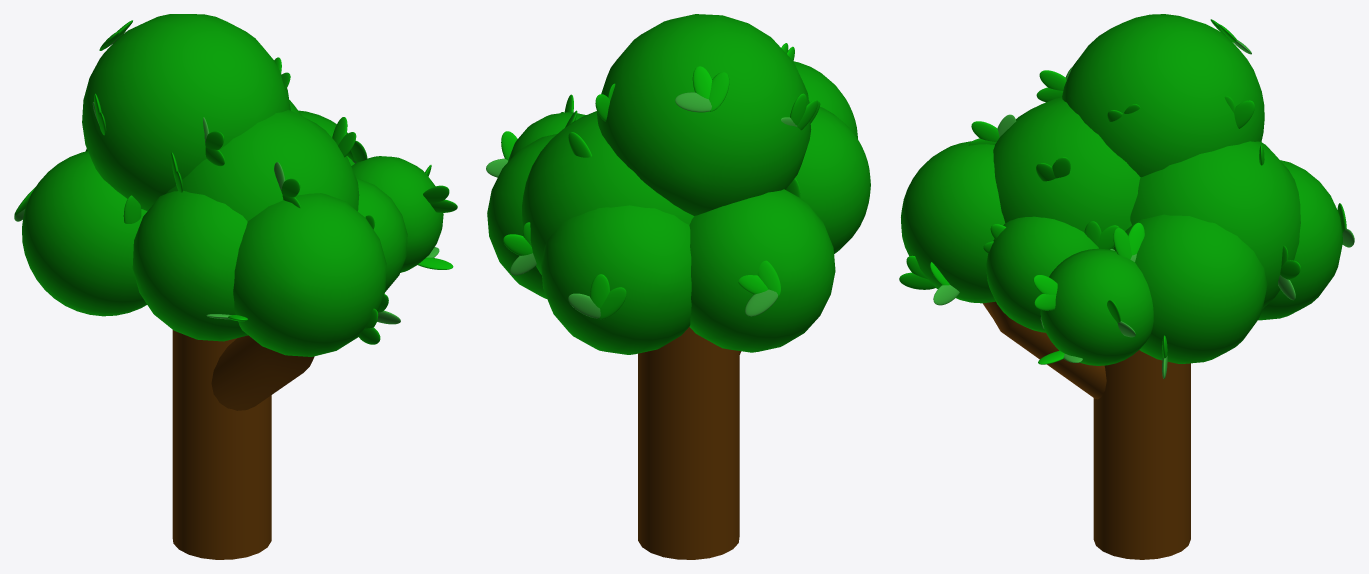
File: tree.fbx
3 views of the same model, side by side, from view 1: azimuth 30°, elevation 25°; view 2: azimuth 150°, elevation 25°; view 3: azimuth 270°, elevation 25° (orthographic). The views are drawn at different scales.
Parts seen in each view (by area): view 1: group19, polySurface43, polySurface116, polySurface84, polySurface46, polySurface42, group21, polySurface115, polySurface44; view 2: group19, polySurface116, polySurface84, polySurface87, polySurface83, polySurface46, polySurface86, group21, polySurface43, polySurface108, polySurface112, polySurface114 (+2 smaller); view 3: group19, polySurface116, polySurface86, polySurface42, polySurface83, group21, polySurface43, polySurface44, polySurface87, polySurface115.
Part boxes in pixels (x1,y1,x2,y2): group19: (82,14,290,210); polySurface43: (233,193,386,356); polySurface116: (172,330,271,559); polySurface84: (22,151,147,316); polySurface46: (132,191,247,341); polySurface42: (167,109,359,221); group21: (347,141,457,272); polySurface115: (211,335,314,410); polySurface44: (356,178,407,291); group19: (595,14,818,215); polySurface116: (638,327,739,559); polySurface84: (689,189,835,352); polySurface87: (541,205,691,354); polySurface83: (522,111,694,274); polySurface46: (795,107,870,253); polySurface86: (487,134,556,298); group21: (486,94,586,177); polySurface43: (793,61,857,138); polySurface108: (745,289,777,316); polySurface112: (598,287,626,319); polySurface114: (568,293,600,318); group19: (1036,14,1264,177); polySurface116: (1093,350,1190,559); polySurface86: (1113,214,1267,363); polySurface42: (993,97,1140,248); polySurface83: (1130,141,1300,308); group21: (1033,222,1153,365); polySurface43: (901,141,1005,303); polySurface44: (986,216,1098,332); polySurface87: (1258,160,1342,320); polySurface115: (983,301,1106,399).
Bounding box in the file's own units: 8.38 × 11.4 × 9.36.
